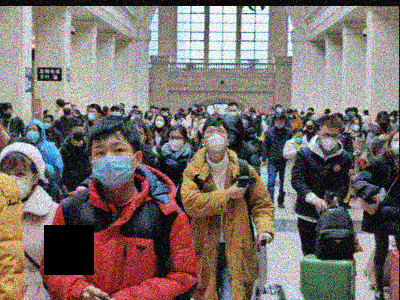with_mask: (93, 140, 135, 190), (3, 167, 32, 199), (205, 126, 228, 152), (320, 130, 339, 150), (169, 134, 184, 150), (26, 126, 40, 143), (71, 128, 85, 141), (391, 136, 399, 155), (88, 108, 98, 121), (42, 118, 51, 130), (228, 107, 238, 117), (294, 134, 303, 144), (156, 118, 165, 127), (275, 120, 285, 128), (352, 121, 360, 131), (306, 121, 314, 131), (380, 118, 388, 128), (64, 106, 72, 115), (111, 108, 119, 116), (193, 119, 199, 128), (175, 118, 182, 124), (277, 106, 283, 112), (289, 112, 294, 117), (391, 114, 395, 120), (262, 114, 266, 119)
